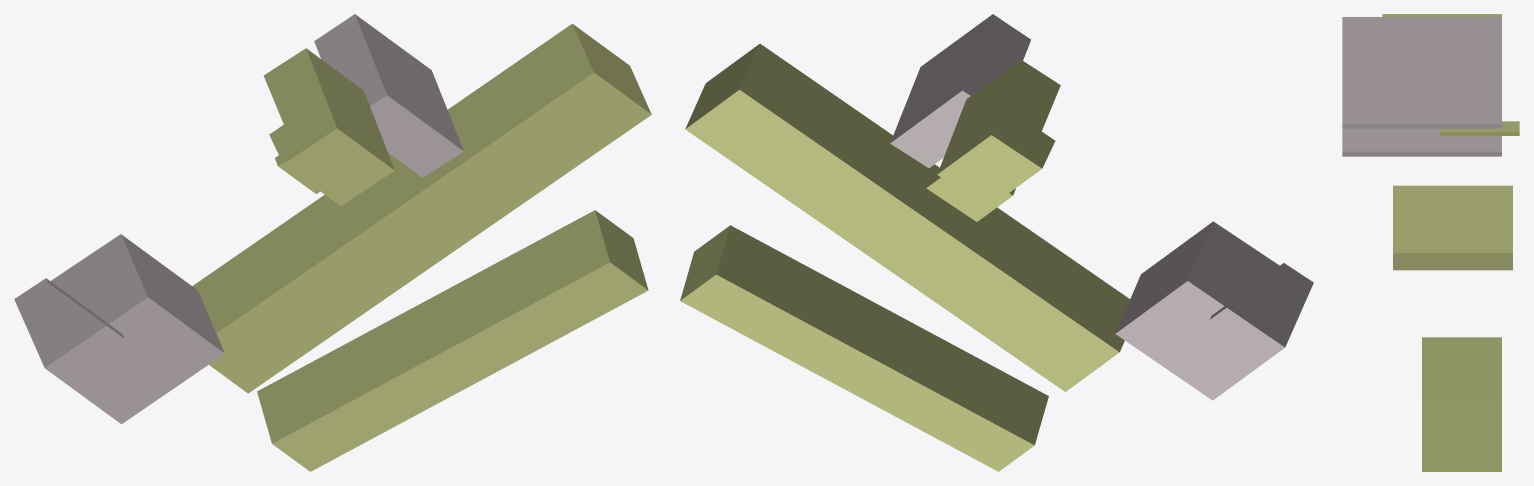
3 views of the same model, side by side, from view 1: azimuth 30°, elevation 25°; view 2: azimuth 150°, elevation 25°; view 3: azimuth 270°, elevation 25° (orthographic). The views are drawn at different scales.
Parts seen in each view (by area): view 1: 0_1_3_2_2_2_2_3_0; view 2: 0_1_3_2_2_2_2_3_0; view 3: 0_1_3_2_2_2_2_3_0.
Part boxes in pixels (x1,y1,x2,y2): 0_1_3_2_2_2_2_3_0: (14, 14, 651, 471); 0_1_3_2_2_2_2_3_0: (680, 14, 1313, 471); 0_1_3_2_2_2_2_3_0: (1342, 14, 1519, 471).
Bounding box in the file's own units: 53.7 × 35.27 × 13.33.
